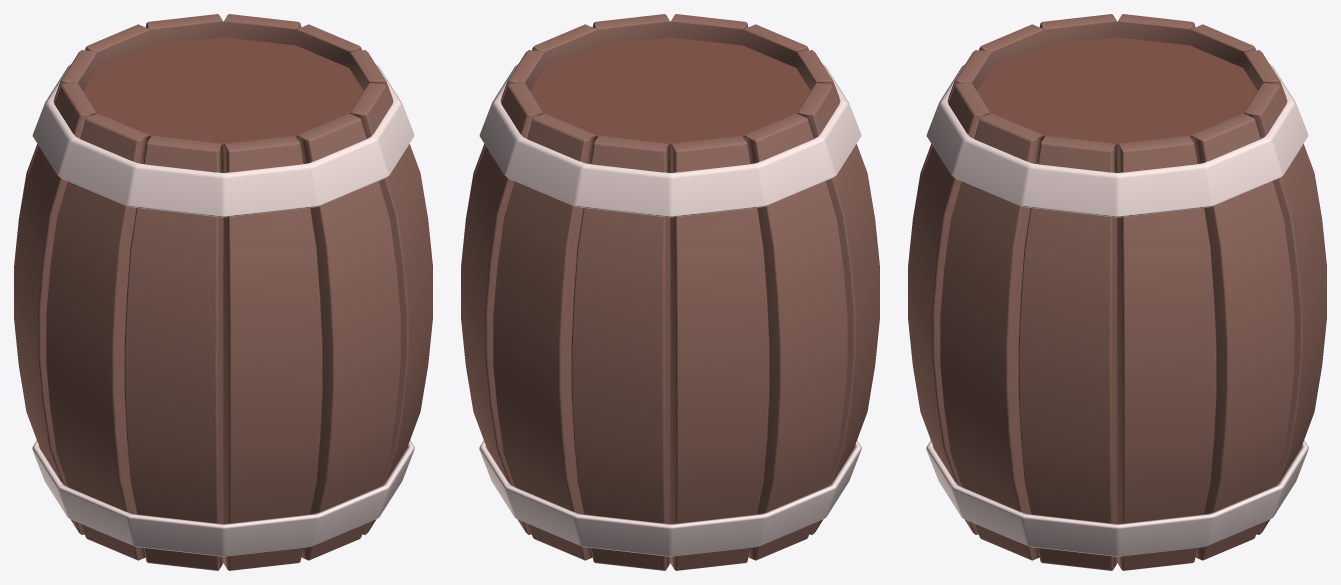
Rendered from City_11_Barrel_1.glb.
The picture shows the model from 3 angles, left to right: view 1: azimuth 30°, elevation 25°; view 2: azimuth 150°, elevation 25°; view 3: azimuth 270°, elevation 25°; orthographic projection.
Visible parts, largest first — view 1: City_11_Barrel_1; view 2: City_11_Barrel_1; view 3: City_11_Barrel_1.
Part boxes in pixels (x1,y1,x2,y2): City_11_Barrel_1: (14,14,432,570); City_11_Barrel_1: (461,14,879,570); City_11_Barrel_1: (908,14,1326,570).
Size of the model in its own units: 0.6825 by 0.7574 by 0.6825.
1 material, 1 textured.
